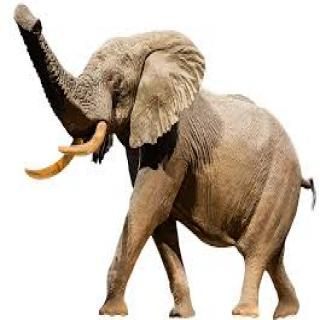Elephant: (12, 1, 320, 320)
